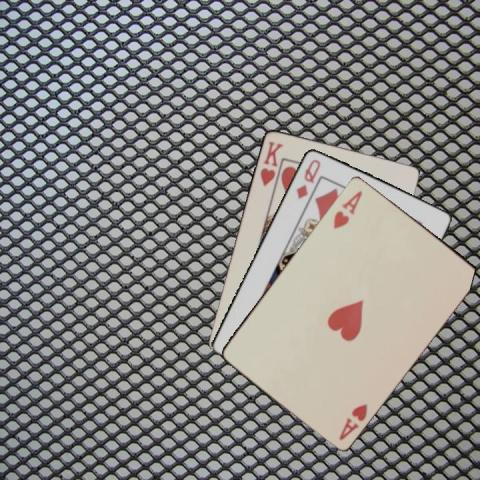Ah: (330, 187, 364, 230), (336, 401, 370, 441)
Kh: (257, 138, 284, 188)
Qd: (293, 156, 322, 200)
